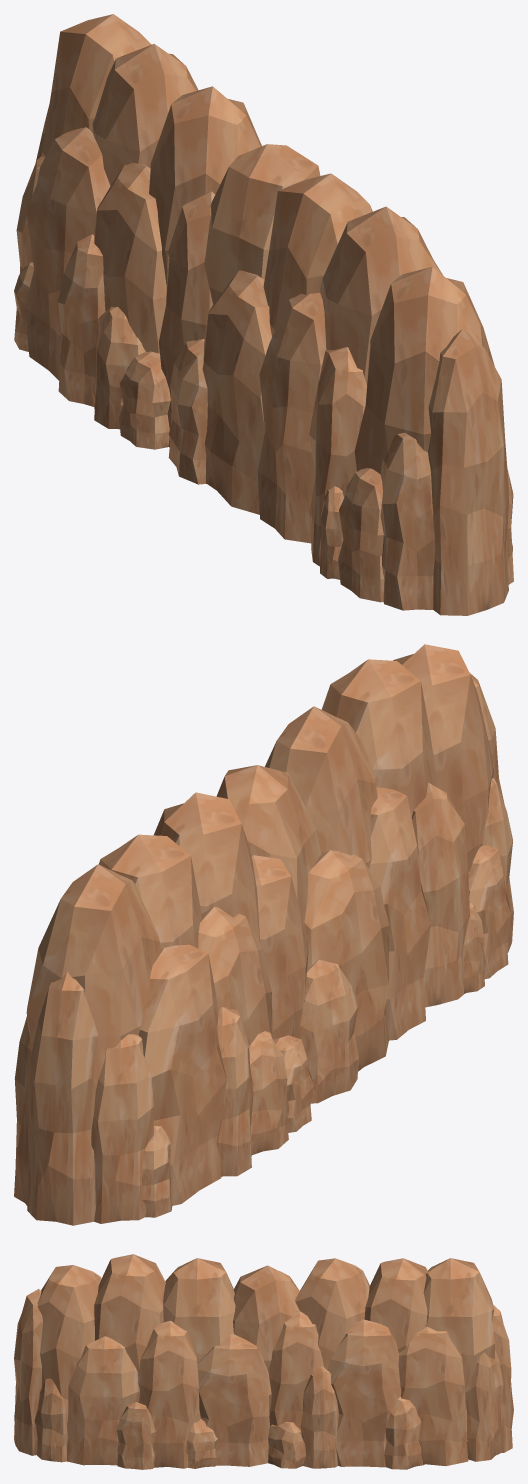
File: ModelWall_Omote_Brown.fbx
The picture shows the model from 3 angles, top to bottom: view 1: azimuth 30°, elevation 25°; view 2: azimuth 150°, elevation 25°; view 3: azimuth 270°, elevation 25°; orthographic projection. The views are drawn at different scales.
Parts seen in each view (by area): view 1: Kabe_Omote_Brown; view 2: Kabe_Omote_Brown; view 3: Kabe_Omote_Brown.
Part boxes in pixels (box(x1,y1,x2,y2)): Kabe_Omote_Brown: box(14, 14, 513, 615); Kabe_Omote_Brown: box(14, 644, 513, 1225); Kabe_Omote_Brown: box(14, 1254, 513, 1469).
Size of the model in its own units: 23.23 by 38.93 by 92.04.
Materials: 1 (1 with a texture image).
